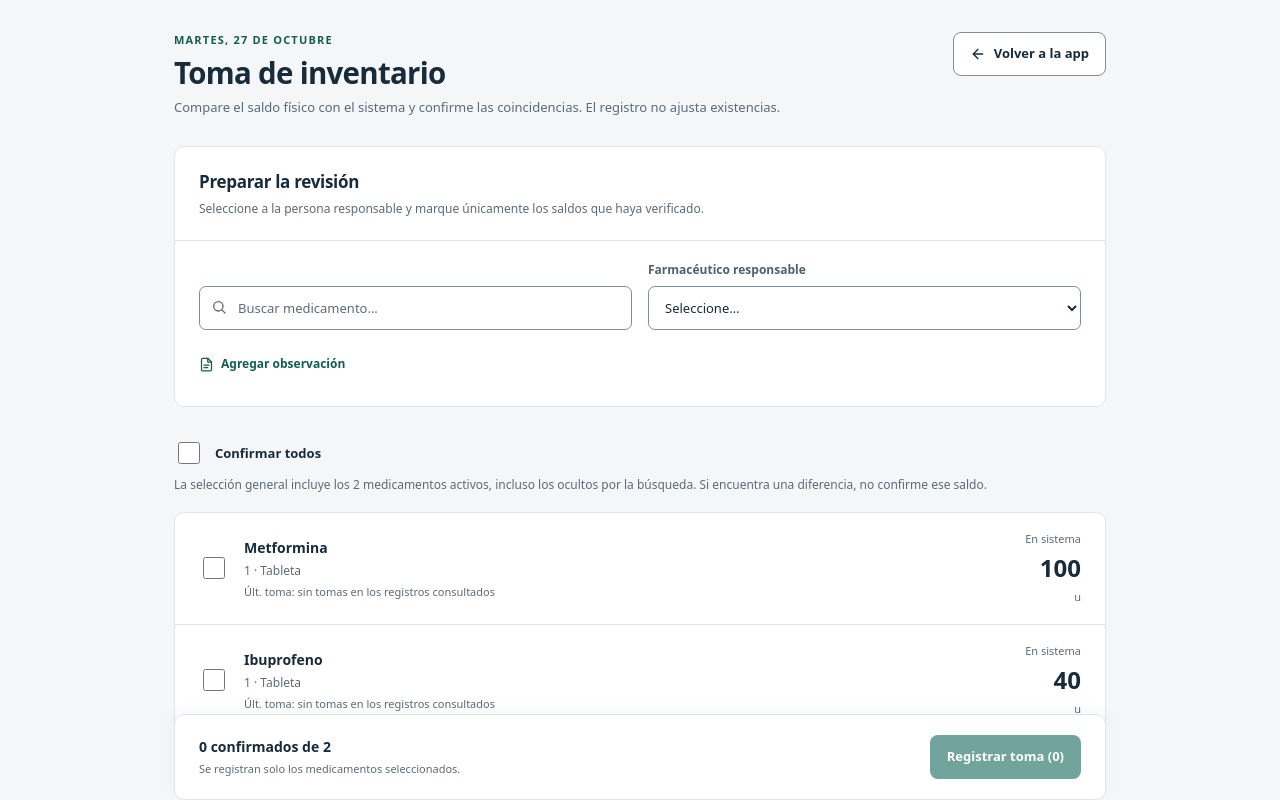
ArqueoScreen › 'Confirmar todos' selecciona todo el inventario
The width and height of the screenshot is (1280, 800).
Click the checkbox labelled "Confirmar todos" at coordinates (189, 454), box [178,442,200,464]
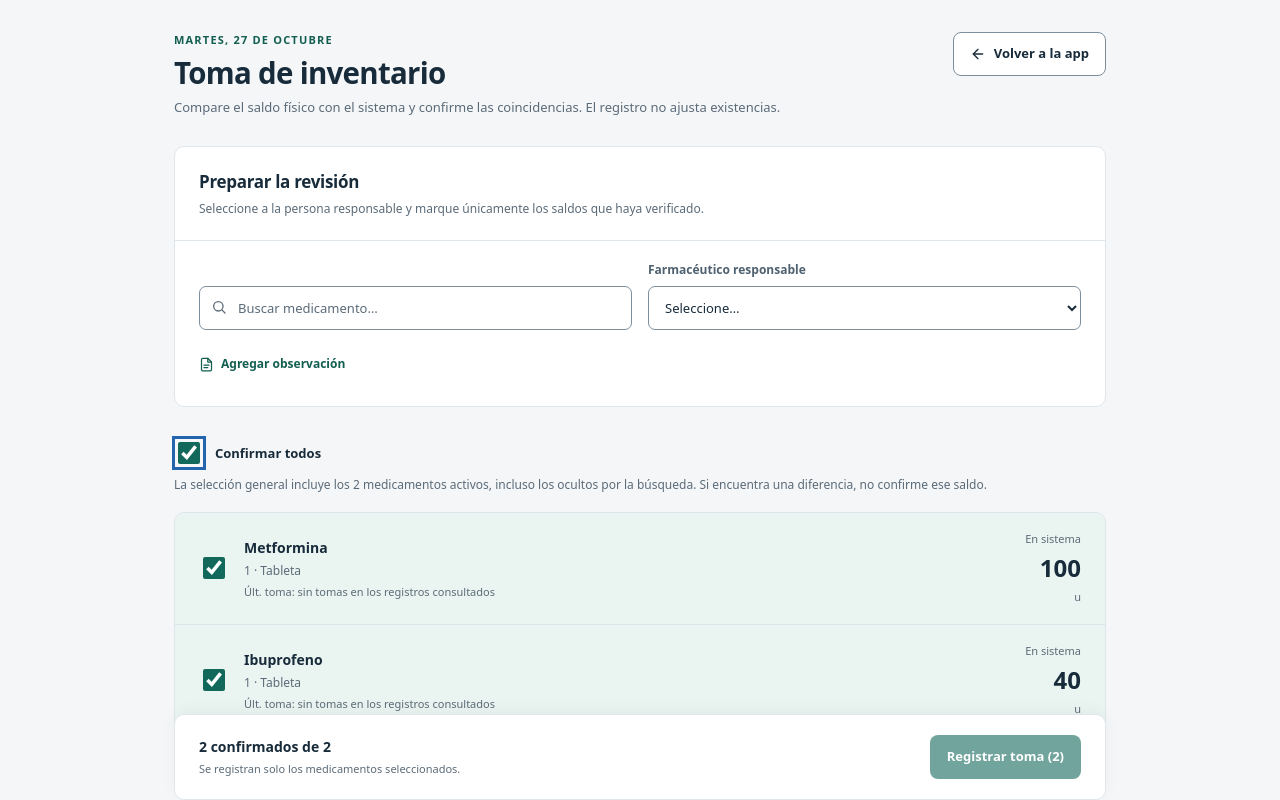
Check: the text "2 confirmados de 2" is shown, box [199,737,331,756]
